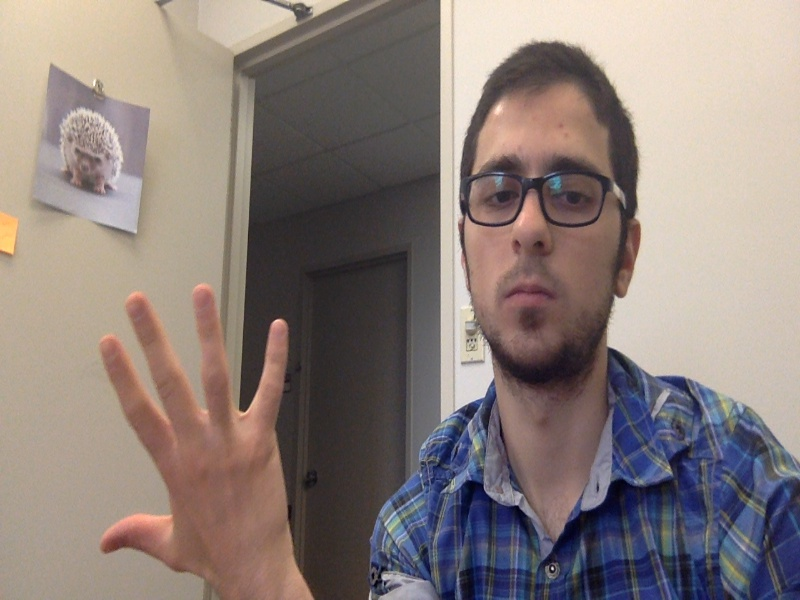5-hand: (96, 286, 292, 584)
